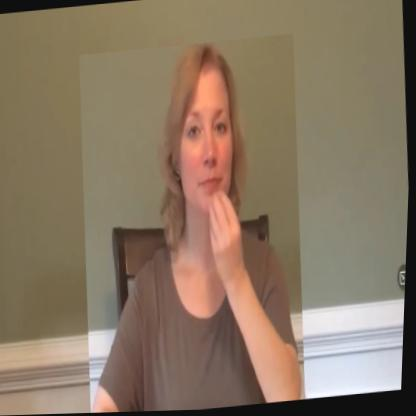Food: (69, 35, 319, 414)
